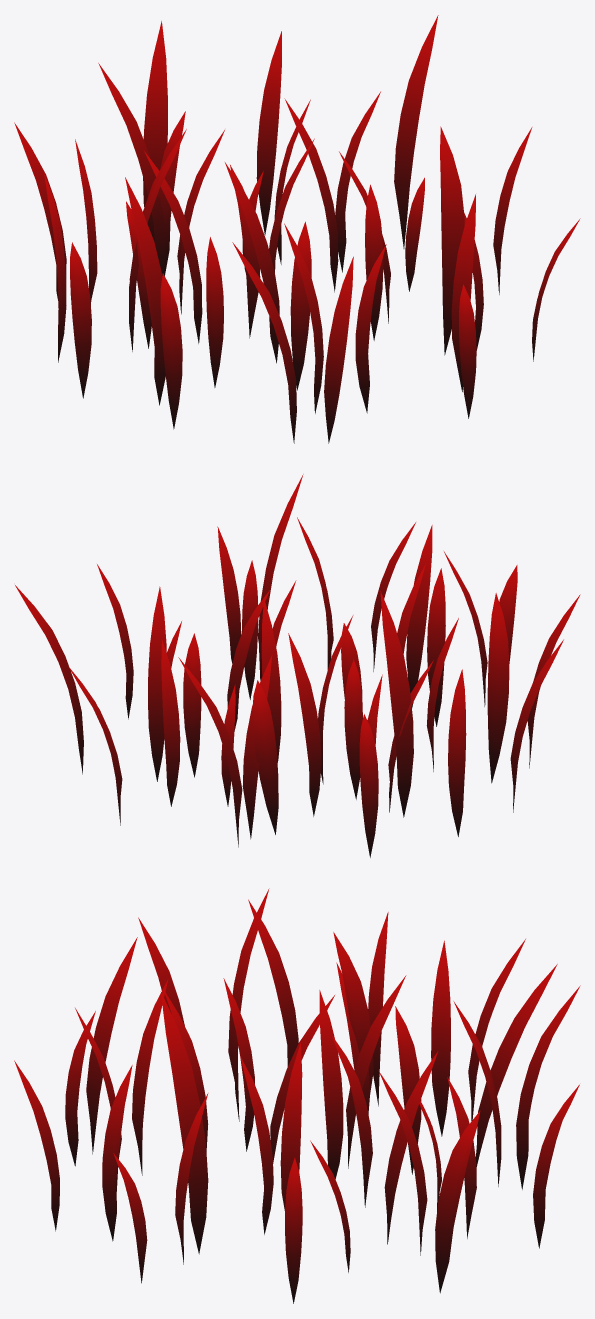
File: GrassSingle.fbx
3 renders of one model, top to bottom at view 1: azimuth 30°, elevation 25°; view 2: azimuth 150°, elevation 25°; view 3: azimuth 270°, elevation 25°, orthographic. The views are drawn at different scales.
Visible parts, largest first — view 1: Grass; view 2: Grass; view 3: Grass.
Part boxes in pixels (x1=…): Grass: x1=14, y1=15, x2=580, y2=443; Grass: x1=15, y1=474, x2=580, y2=857; Grass: x1=14, y1=888, x2=580, y2=1303.
Bounding box in the file's own units: 3.2 × 1.58 × 3.21.
